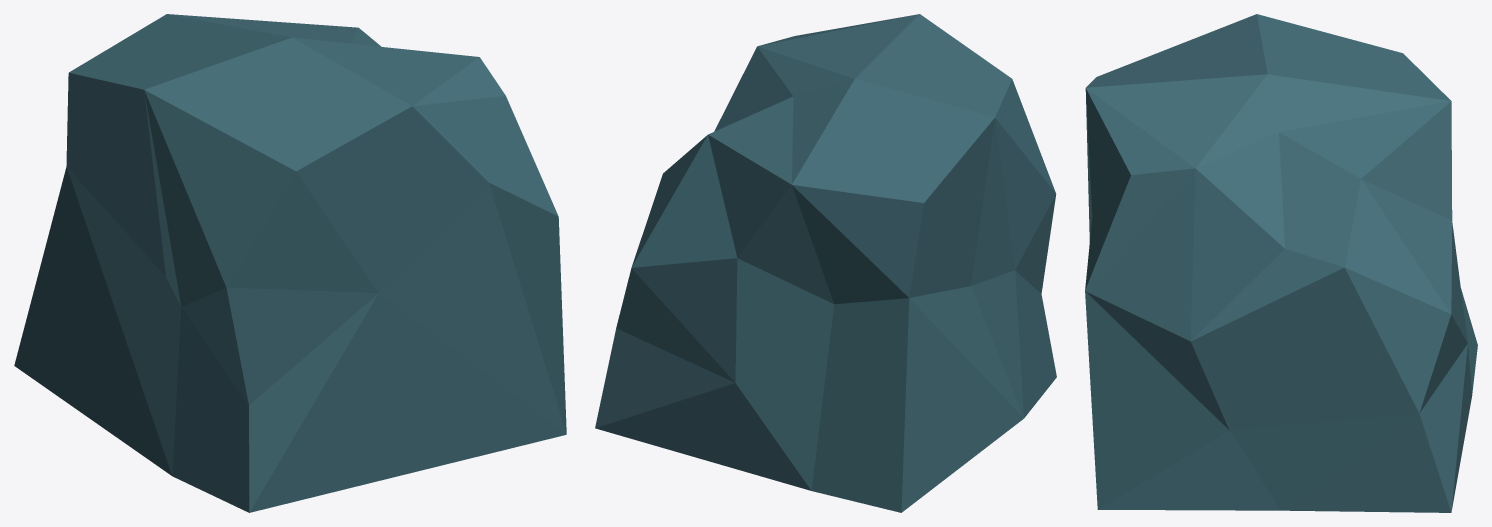
Rendered from c_ice.glb.
3 views of the same model, side by side, from view 1: azimuth 30°, elevation 25°; view 2: azimuth 150°, elevation 25°; view 3: azimuth 270°, elevation 25° (orthographic). The views are drawn at different scales.
Parts seen in each view (by area): view 1: C_Ice; view 2: C_Ice; view 3: C_Ice.
Part boxes in pixels (x1,y1,x2,y2): C_Ice: [14, 14, 566, 512]; C_Ice: [595, 14, 1056, 512]; C_Ice: [1085, 14, 1477, 512].
Bounding box in the file's own units: 2.03 × 2.01 × 2.04.
